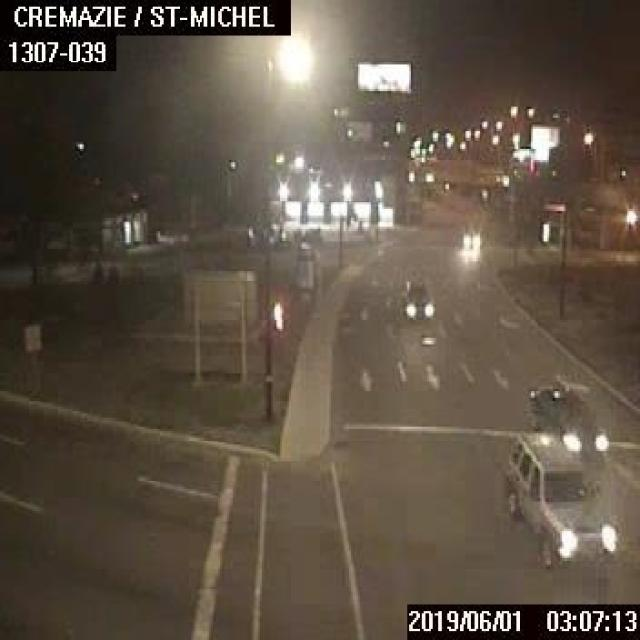vehicle: (503, 432, 618, 564), (528, 387, 608, 464), (404, 280, 433, 318), (460, 228, 480, 246)
